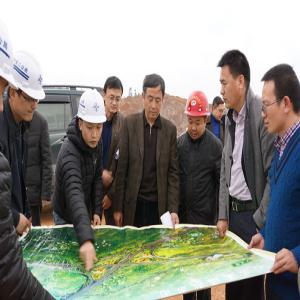none: (259, 60, 300, 137), (216, 47, 252, 111), (138, 70, 168, 125), (102, 76, 126, 117), (212, 97, 226, 124)
red: (184, 90, 214, 140)
white: (6, 52, 46, 123), (76, 89, 108, 151)
